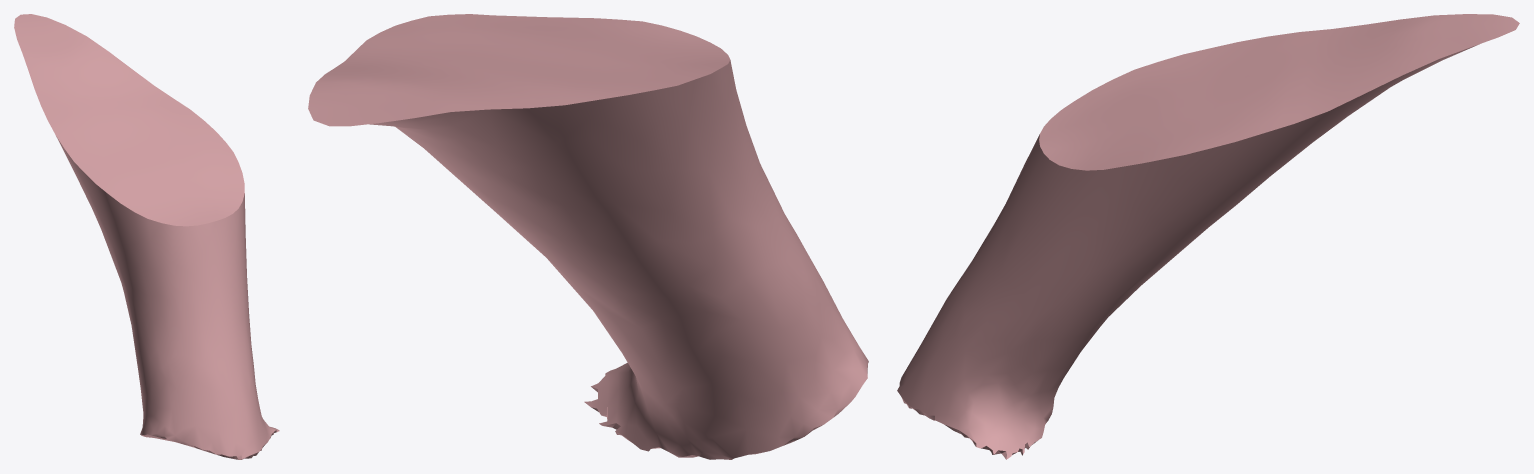
File: fma74635_mm2964.glb
The picture shows the model from 3 angles, left to right: view 1: azimuth 30°, elevation 25°; view 2: azimuth 150°, elevation 25°; view 3: azimuth 270°, elevation 25°; orthographic projection. The views are drawn at different scales.
Parts seen in each view (by area): view 1: FMA74635_MM2964; view 2: FMA74635_MM2964; view 3: FMA74635_MM2964.
Boxes of the visible parts, x1,y1,x2,y2 form: FMA74635_MM2964: [14, 14, 279, 459]; FMA74635_MM2964: [308, 14, 868, 459]; FMA74635_MM2964: [897, 14, 1519, 459].
Bounding box in the file's own units: 0.0031 × 0.00576 × 0.00807.
